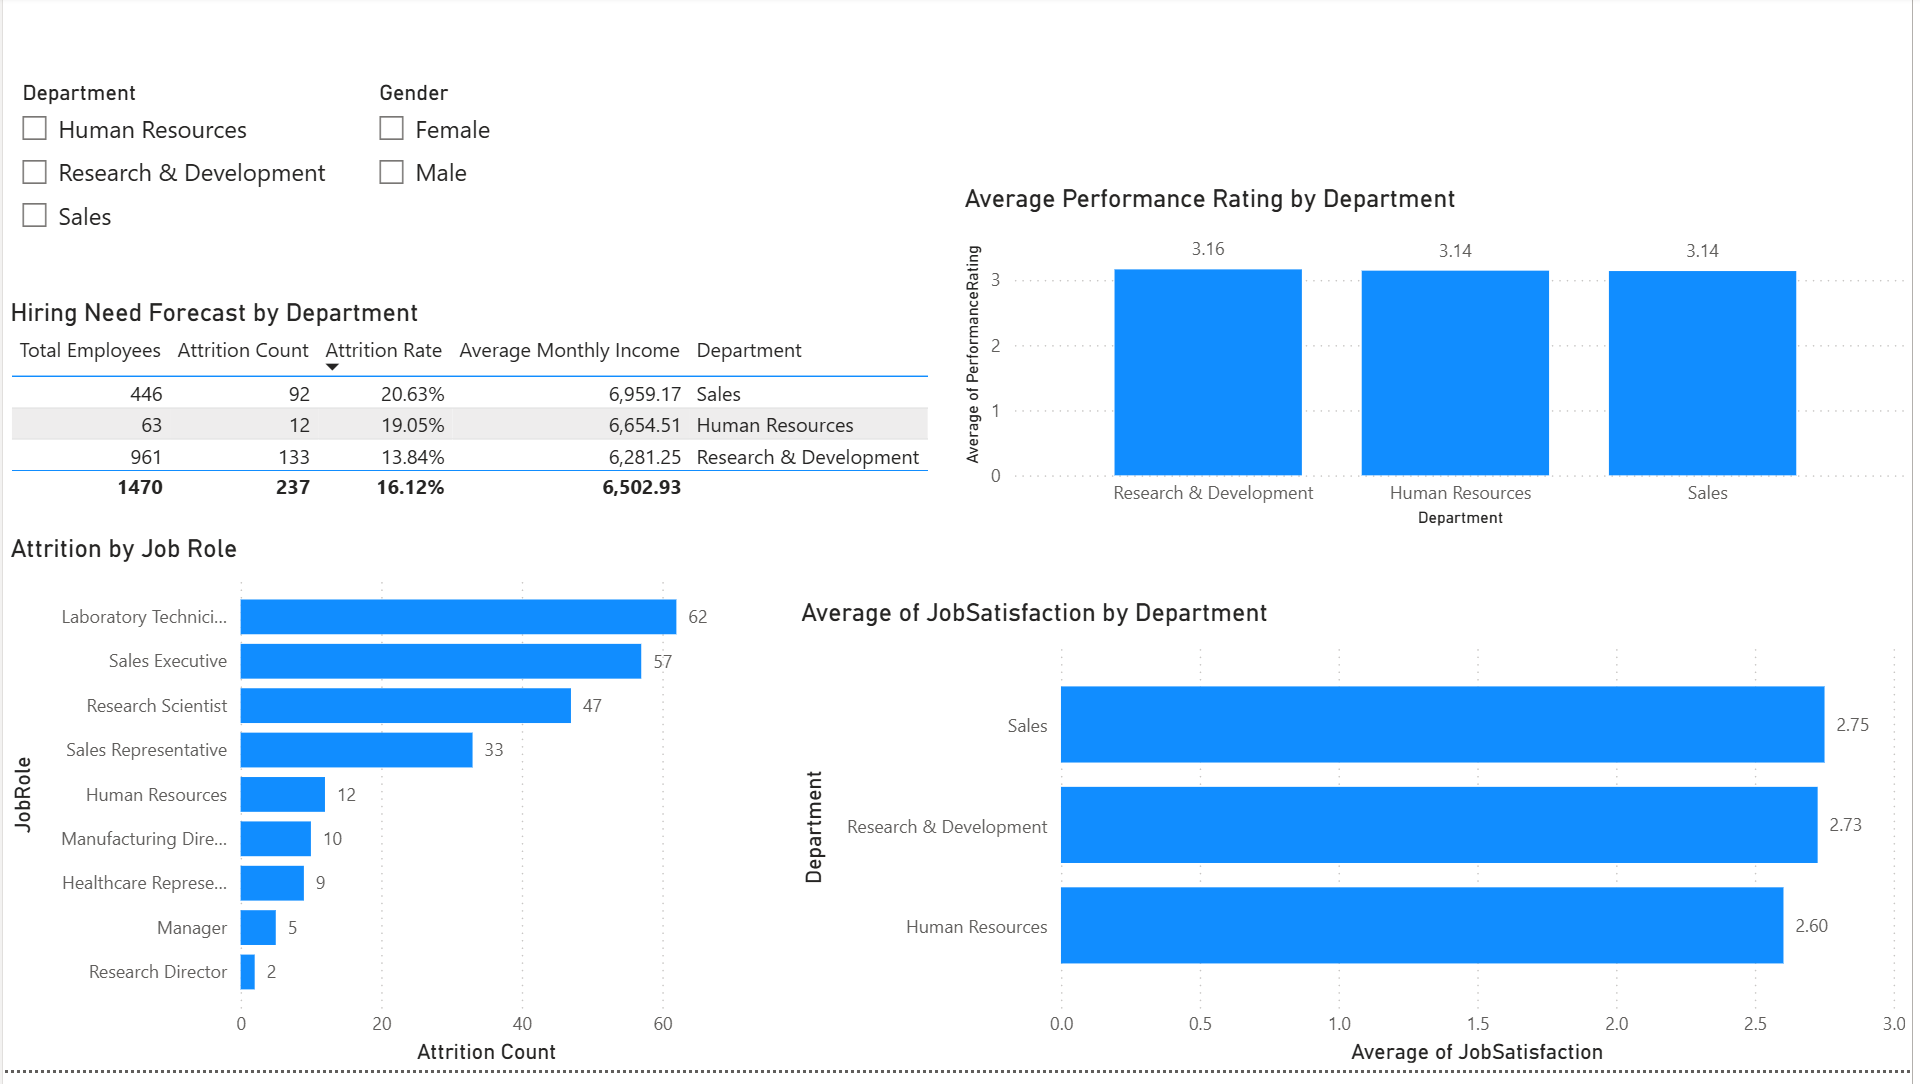

What the dashboard file says about the page in this screenshot:
{"tool":"powerbi","page":{"name":"Satisfaction & Hiring Forecast","canvas":[1280,720],"ordinal":1},"visuals":[{"type":"clusteredColumnChart","title":"Average Performance Rating by Department","fields":{"Category":["WA_Fn-UseC_-HR-Employee-Attrition (2).Department"],"Y":["Avg(WA_Fn-UseC_-HR-Employee-Attrition (2).PerformanceRating)"]},"box":[639.7,125.7,640.7,234.3],"z":0},{"type":"clusteredBarChart","fields":{"Category":["WA_Fn-UseC_-HR-Employee-Attrition (2).Department"],"Y":["Avg(WA_Fn-UseC_-HR-Employee-Attrition (2).JobSatisfaction)"]},"box":[530,403.3,750.3,316.8],"z":1000},{"type":"clusteredBarChart","title":"Attrition by Job Role","fields":{"Category":["WA_Fn-UseC_-HR-Employee-Attrition (2).JobRole"],"Y":["WA_Fn-UseC_-HR-Employee-Attrition (2).Attrition Count"]},"box":[0,360.1,500.9,360.1],"z":2000},{"type":"tableEx","title":"Hiring Need Forecast by Department","fields":{"Values":["WA_Fn-UseC_-HR-Employee-Attrition (2).Total Employees","WA_Fn-UseC_-HR-Employee-Attrition (2).Attrition Count","WA_Fn-UseC_-HR-Employee-Attrition (2).Attrition Rate","WA_Fn-UseC_-HR-Employee-Attrition (2).Average Monthly Income","WA_Fn-UseC_-HR-Employee-Attrition (2).Department"]},"box":[0,202.2,625.6,157.9],"z":3000},{"type":"slicer","fields":{"Values":["WA_Fn-UseC_-HR-Employee-Attrition (2).Department"]},"box":[0,51.3,239.4,133.8],"z":3001},{"type":"slicer","fields":{"Values":["WA_Fn-UseC_-HR-Employee-Attrition (2).Gender"]},"box":[239.4,51.3,150.9,128.7],"z":3002}]}

Visuals, with their boxes in screenshot pixels (x1, y1, x2, y2), scaled from the page's 1280x720 canvas onto the 1920x1084 screenshot:
"Average Performance Rating by Department" clusteredColumnChart: bbox(960, 189, 1919, 542)
clusteredBarChart - WA_Fn-UseC_-HR-Employee-Attrition (2).Department x Avg(WA_Fn-UseC_-HR-Employee-Attrition (2).JobSatisfaction): bbox(795, 607, 1919, 1083)
"Attrition by Job Role" clusteredBarChart: bbox(0, 542, 751, 1083)
"Hiring Need Forecast by Department" tableEx: bbox(0, 304, 938, 542)
slicer - WA_Fn-UseC_-HR-Employee-Attrition (2).Department: bbox(0, 77, 359, 279)
slicer - WA_Fn-UseC_-HR-Employee-Attrition (2).Gender: bbox(359, 77, 585, 271)
